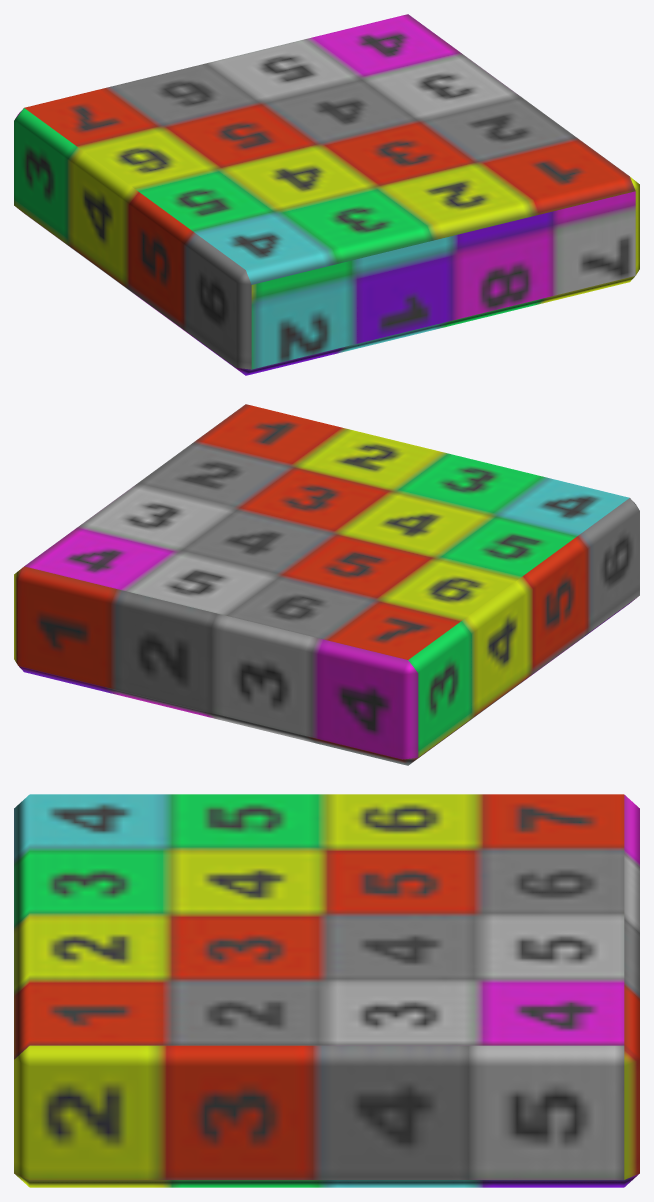
File: _tile_trans.obj
3 views of the same model, one above another, from view 1: azimuth 30°, elevation 25°; view 2: azimuth 150°, elevation 25°; view 3: azimuth 270°, elevation 25° (orthographic). The views are drawn at different scales.
Parts seen in each view (by area): view 1: tile_trans; view 2: tile_trans; view 3: tile_trans.
Boxes of the visible parts, box(x1,y1,x2,y2) form: tile_trans: box(14, 14, 639, 375); tile_trans: box(14, 404, 639, 765); tile_trans: box(14, 794, 639, 1187).
Bounding box in the file's own units: 1 × 0.25 × 1.
1 material, 1 textured.
